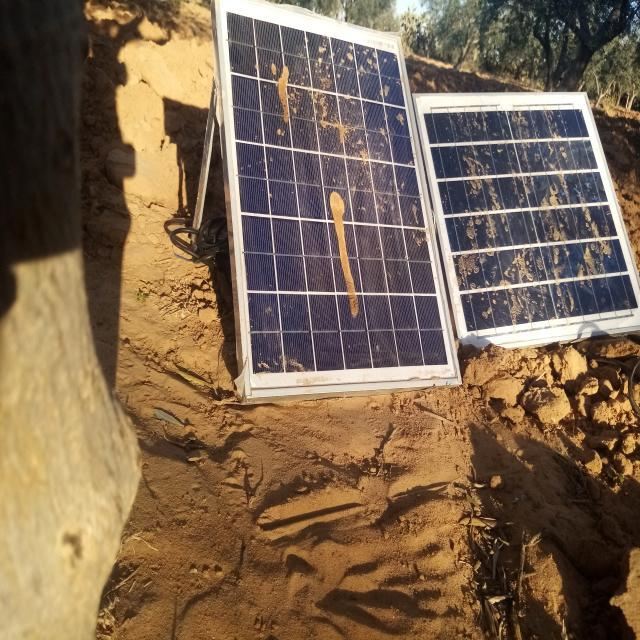faulty: (215, 2, 458, 392), (418, 96, 640, 343)
